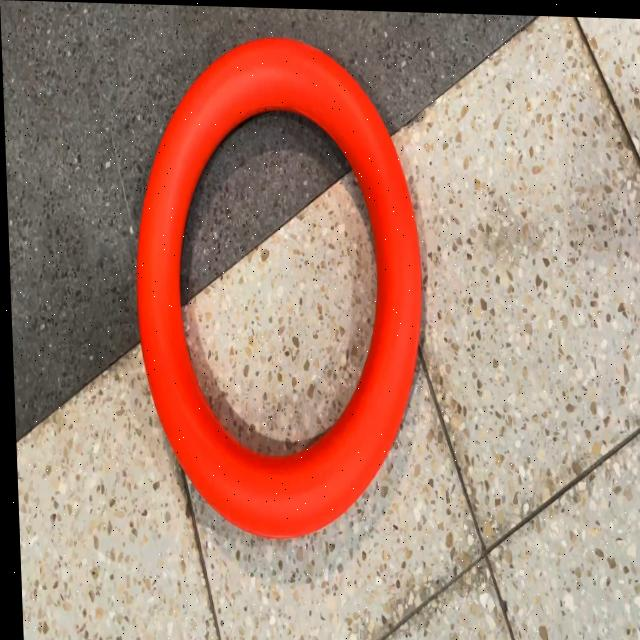note: (125, 29, 430, 544)
